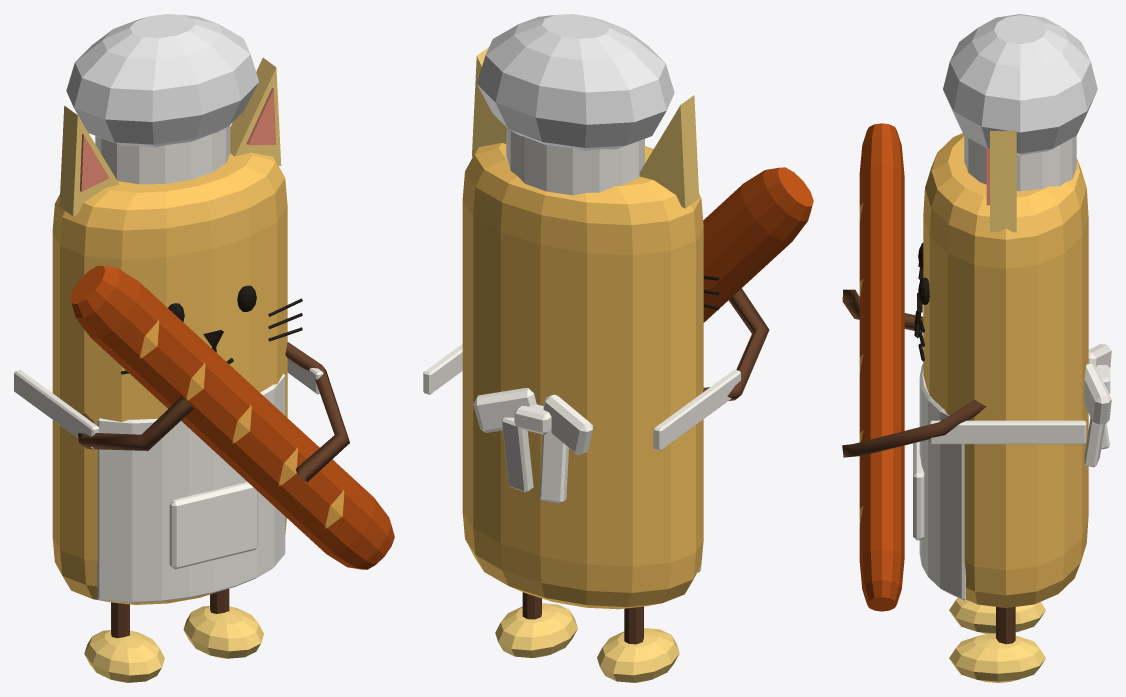
Rendered from char_baker_cat_rebuild_v6.glb.
The picture shows the model from 3 angles, left to right: view 1: azimuth 30°, elevation 25°; view 2: azimuth 150°, elevation 25°; view 3: azimuth 270°, elevation 25°; orthographic projection. The views are drawn at different scales.
Parts seen in each view (by area): view 1: BC3_Body_Capsule, BC3_Baguette, BC3_Apron_Front, BC3_Hat_Puff, BC3_Apron_Pocket, BC3_Hat_Band, BC3_EarInner_L, BC3_EarInner_R, BC3_Foot_L, BC3_Foot_R, BC3_Arm_R_LowerWrap, BC3_Arm_L_UpperSupport (+3 smaller); view 2: BC3_Body_Capsule, BC3_Hat_Puff, BC3_Baguette, BC3_Hat_Band, BC3_EarInner_L, BC3_Foot_L, BC3_Foot_R, BC3_Apron_StraightStrap_L, BC3_Arm_L_UpperSupport, BC3_Ribbon_L, BC3_Bow_L, BC3_Bow_R (+5 smaller); view 3: BC3_Body_Capsule, BC3_Baguette, BC3_Hat_Puff, BC3_Apron_Front, BC3_Apron_StraightStrap_R, BC3_Foot_R, BC3_Hat_Band, BC3_EarInner_R, BC3_Arm_R_LowerWrap, BC3_Foot_L, BC3_Bow_R, BC3_Apron_Pocket (+4 smaller).
Boxes of the visible parts, x1,y1,x2,y2 form: BC3_Body_Capsule: (52,152,287,604); BC3_Baguette: (70,265,394,569); BC3_Apron_Front: (97,374,285,602); BC3_Hat_Puff: (66,14,258,147); BC3_Apron_Pocket: (169,482,258,569); BC3_Hat_Band: (95,125,230,184); BC3_EarInner_L: (59,105,119,216); BC3_EarInner_R: (230,58,281,165); BC3_Foot_L: (84,630,164,682); BC3_Foot_R: (183,606,263,658); BC3_Arm_R_LowerWrap: (285,342,349,481); BC3_Arm_L_UpperSupport: (78,396,193,450); BC3_Body_Capsule: (462,143,703,609); BC3_Hat_Puff: (476,14,674,150); BC3_Baguette: (703,167,813,322); BC3_Hat_Band: (506,127,644,195); BC3_EarInner_L: (639,95,699,208); BC3_Foot_L: (597,628,679,682); BC3_Foot_R: (495,603,577,657); BC3_Apron_StraightStrap_L: (653,369,740,450); BC3_Arm_L_UpperSupport: (703,288,769,400); BC3_Ribbon_L: (539,430,568,503); BC3_Bow_L: (543,394,593,455); BC3_Bow_R: (473,388,536,432); BC3_Body_Capsule: (923,133,1088,607); BC3_Baguette: (859,123,904,611); BC3_Hat_Puff: (943,14,1097,155); BC3_Apron_Front: (919,363,965,600); BC3_Apron_StraightStrap_R: (929,420,1086,444); BC3_Foot_R: (949,633,1045,682); BC3_Hat_Band: (964,136,1076,191); BC3_EarInner_R: (986,131,1016,232); BC3_Arm_R_LowerWrap: (842,399,986,457); BC3_Foot_L: (949,598,1045,633); BC3_Bow_R: (1084,363,1111,425); BC3_Apron_Pocket: (913,442,924,540).
Size of the model in its own units: 3.56 by 6.67 by 2.61.
Materials: 7 (1 with a texture image).
